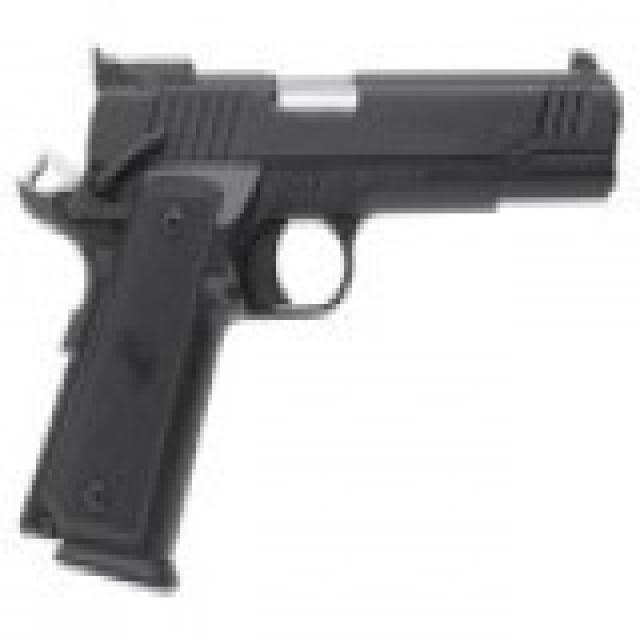Gun: (27, 29, 617, 543)
